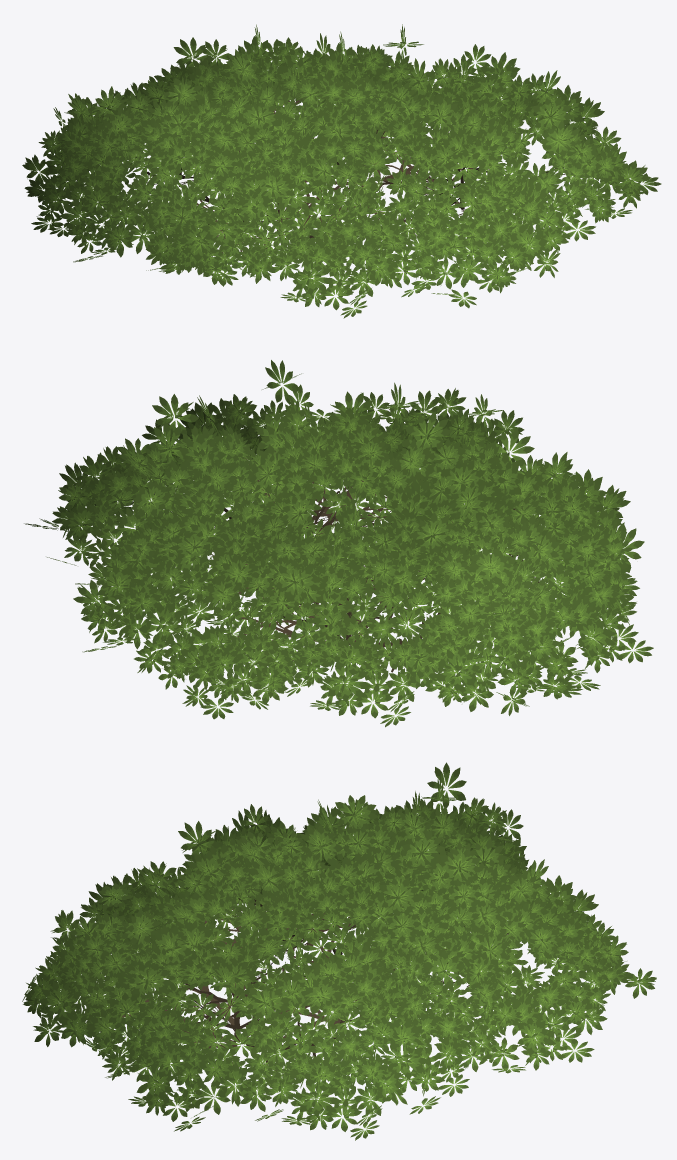
The model's file is SM_Env_Bush_01_Alt.fbx.
3 renders of one model, top to bottom at view 1: azimuth 30°, elevation 25°; view 2: azimuth 150°, elevation 25°; view 3: azimuth 270°, elevation 25°, orthographic. The views are drawn at different scales.
Parts seen in each view (by area): view 1: SM_Env_Bush_01_Alt_Leaves_LOD0, SM_Env_Bush_01_Alt_Branches_LOD0; view 2: SM_Env_Bush_01_Alt_Leaves_LOD0, SM_Env_Bush_01_Alt_Branches_LOD0; view 3: SM_Env_Bush_01_Alt_Leaves_LOD0, SM_Env_Bush_01_Alt_Branches_LOD0.
Boxes of the visible parts, <box> form: SM_Env_Bush_01_Alt_Leaves_LOD0: <box>22,24,661,318</box>; SM_Env_Bush_01_Alt_Branches_LOD0: <box>146,98,565,252</box>; SM_Env_Bush_01_Alt_Leaves_LOD0: <box>24,360,653,727</box>; SM_Env_Bush_01_Alt_Branches_LOD0: <box>211,451,551,672</box>; SM_Env_Bush_01_Alt_Leaves_LOD0: <box>22,762,656,1140</box>; SM_Env_Bush_01_Alt_Branches_LOD0: <box>121,872,508,1070</box>.
Size of what is drawn, in the model's own units: 470 by 129 by 453.
